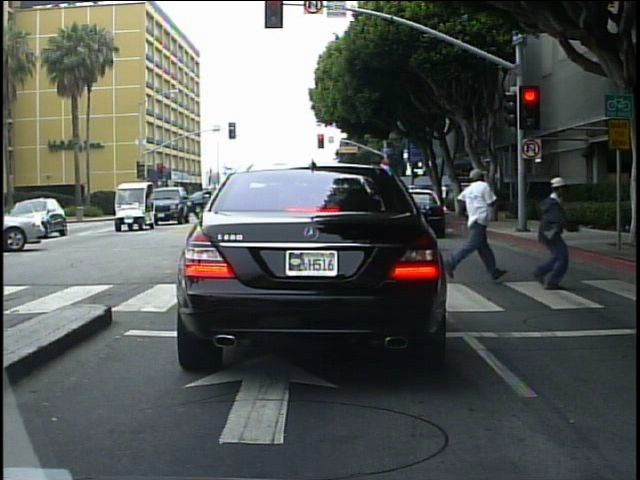person: (445, 165, 496, 285), (521, 169, 568, 297), (438, 179, 453, 210)
